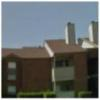chimneys: (65, 21, 76, 46), (88, 20, 99, 43)
